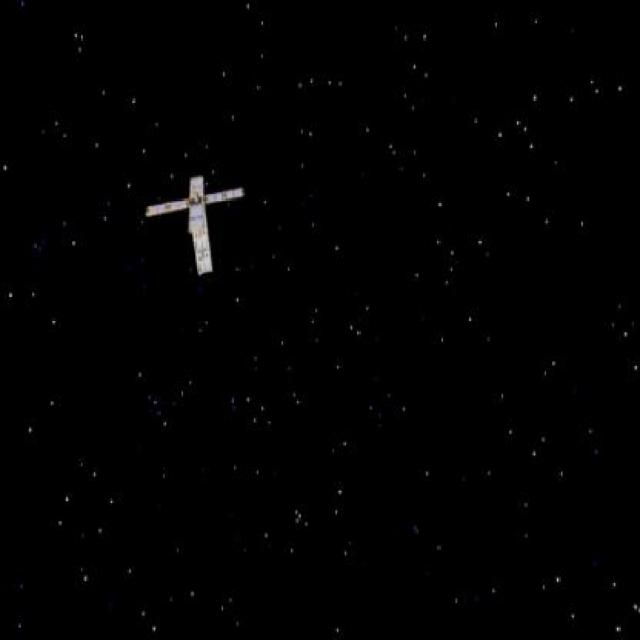medium_debris: (142, 165, 250, 279)
